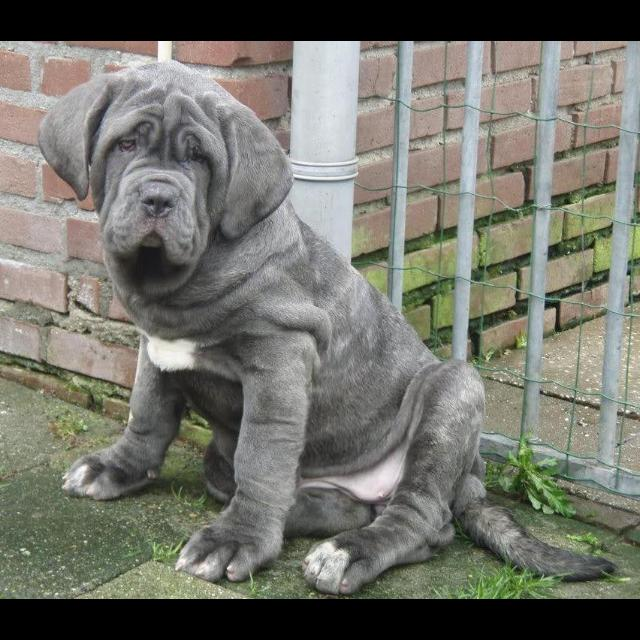mastino_napoletano: (38, 61, 618, 598)
